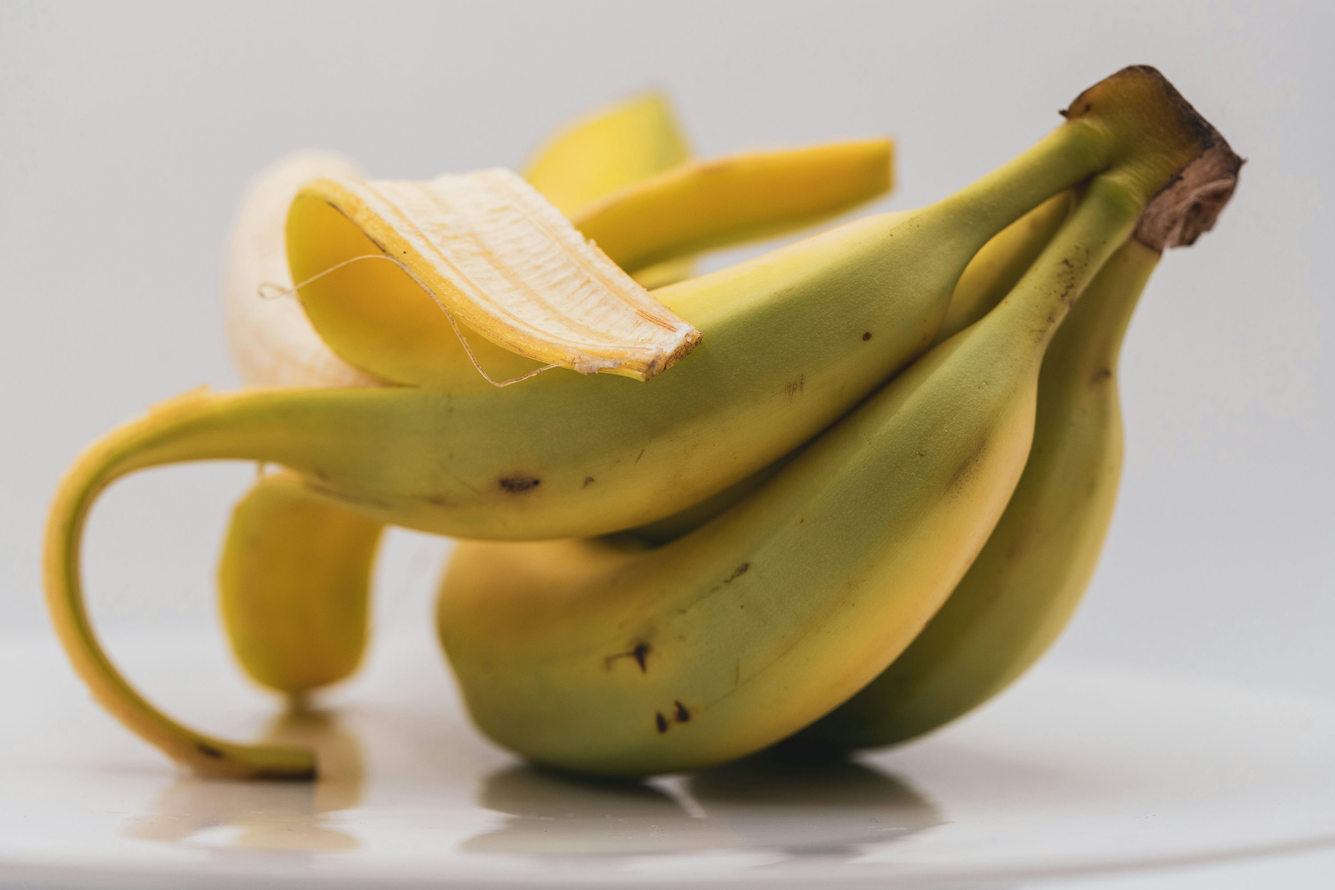banana: (35, 57, 1242, 781)
